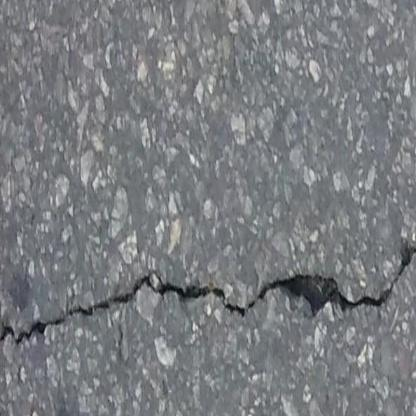Cracks: (0, 234, 416, 362)
